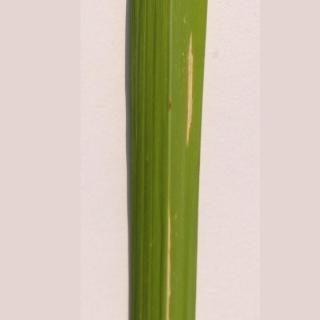Hawar-Daun: (173, 43, 202, 150), (154, 205, 181, 318)
